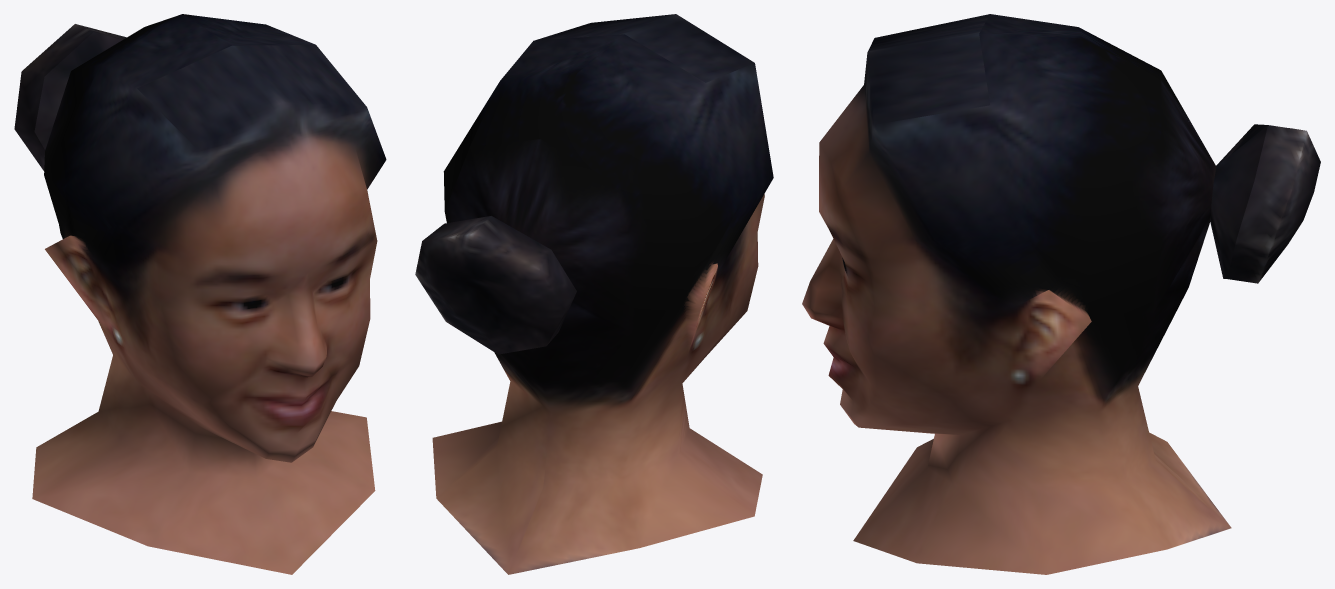
Rendered from jocelyn.dae.
3 renders of one model, left to right at view 1: azimuth 30°, elevation 25°; view 2: azimuth 150°, elevation 25°; view 3: azimuth 270°, elevation 25°, orthographic. The views are drawn at different scales.
Parts seen in each view (by area): view 1: polySurface2; view 2: polySurface2; view 3: polySurface2.
Part boxes in pixels (x1,y1,x2,y2): polySurface2: (14,14,386,574); polySurface2: (415,14,773,574); polySurface2: (802,14,1320,574).
Bounding box in the file's own units: 31.8 × 44.08 × 40.87.
